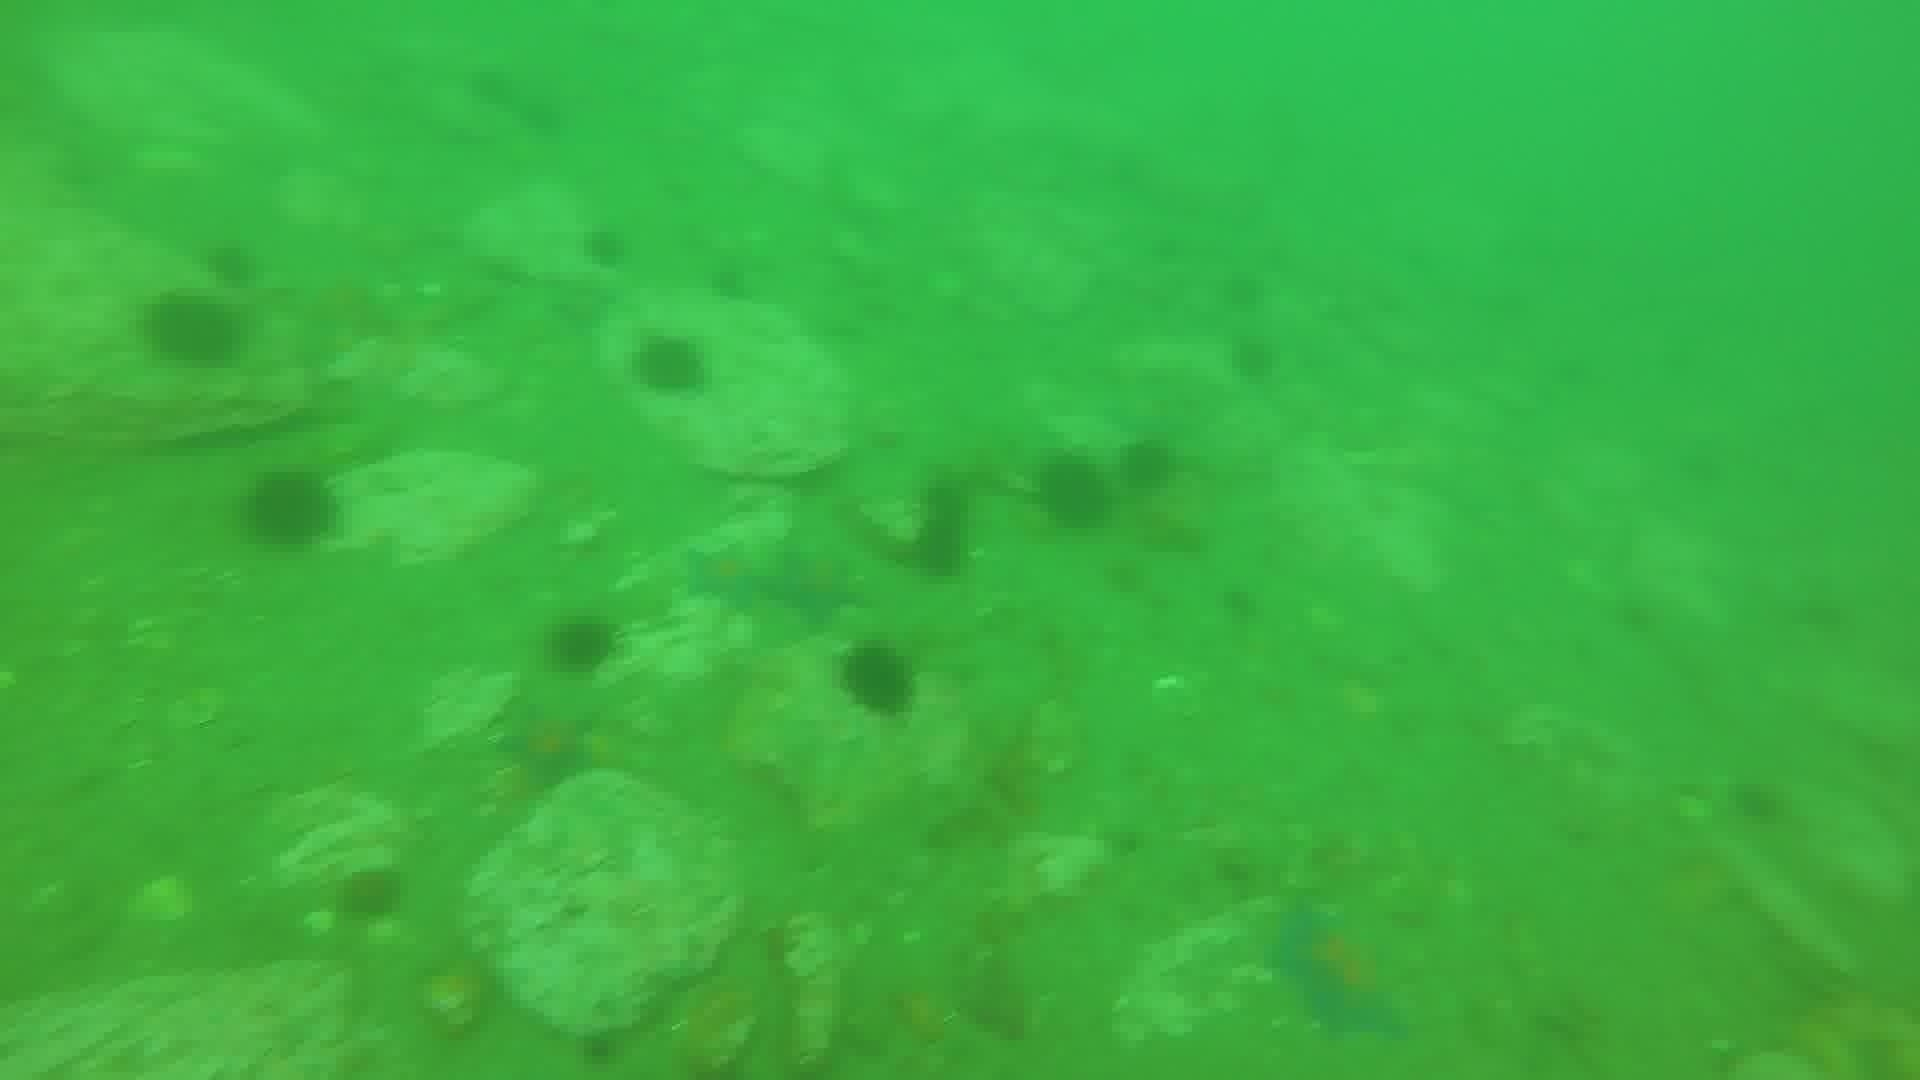echinus: (239, 465, 340, 553), (140, 290, 245, 373), (835, 640, 920, 721), (1030, 451, 1114, 533), (905, 502, 976, 583), (629, 332, 711, 401), (543, 611, 622, 678), (331, 864, 409, 928), (1116, 435, 1182, 497), (1725, 775, 1792, 831), (200, 237, 262, 291), (1225, 334, 1282, 386), (578, 222, 633, 272), (704, 257, 757, 306), (1215, 580, 1265, 628)
starfish: (1266, 905, 1412, 1040), (1727, 977, 1916, 1077), (492, 696, 603, 791), (761, 543, 865, 626), (678, 539, 779, 616)
